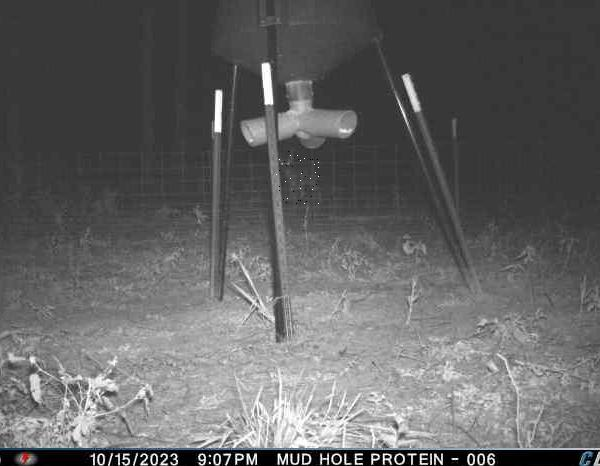Deer: (275, 152, 320, 205)
